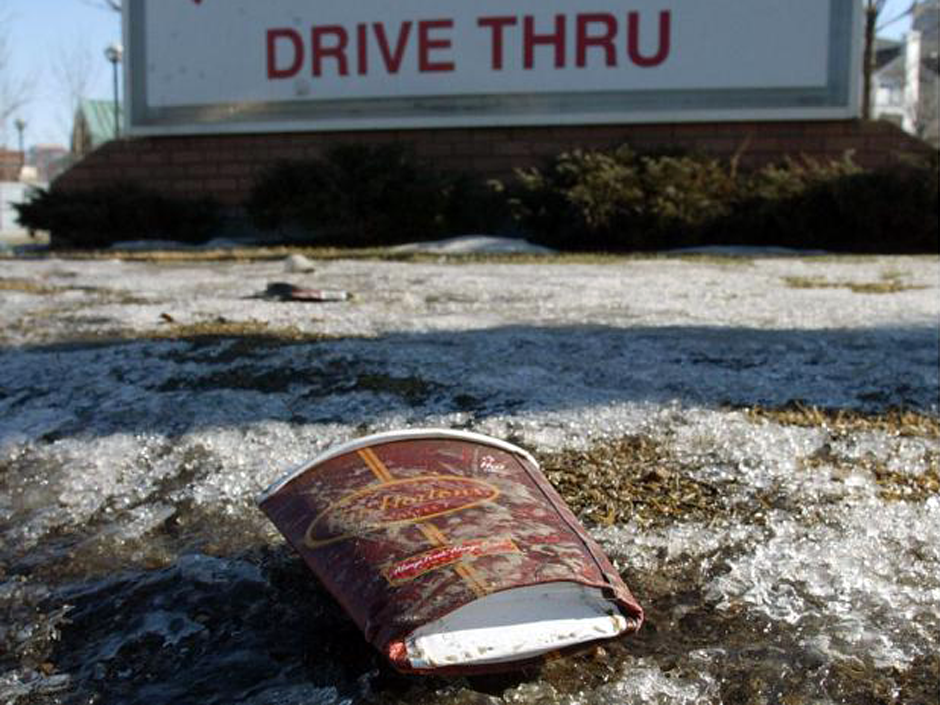cup: (255, 426, 645, 674)
